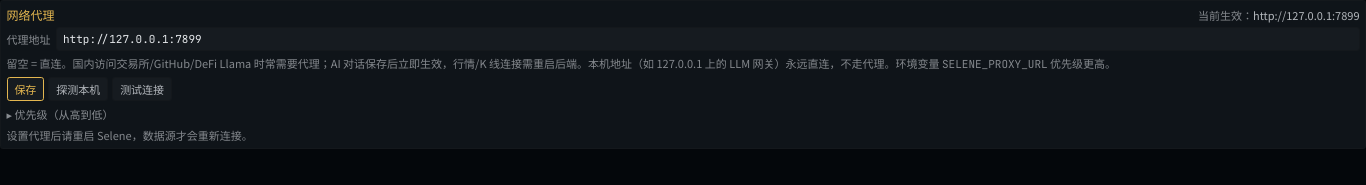
Test: NetworkSettingsPanel › reports a port that listens but is not a proxy
Click the button "探测本机" at (78,89), box [48,77,108,101]
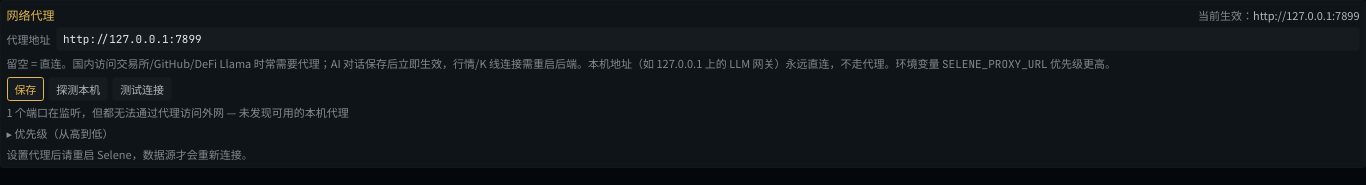
Expected: the text "1 个端口在监听，但都无法通过代理访问外网 — 未发现可用的本机代理" is shown, [6,104,349,120]
